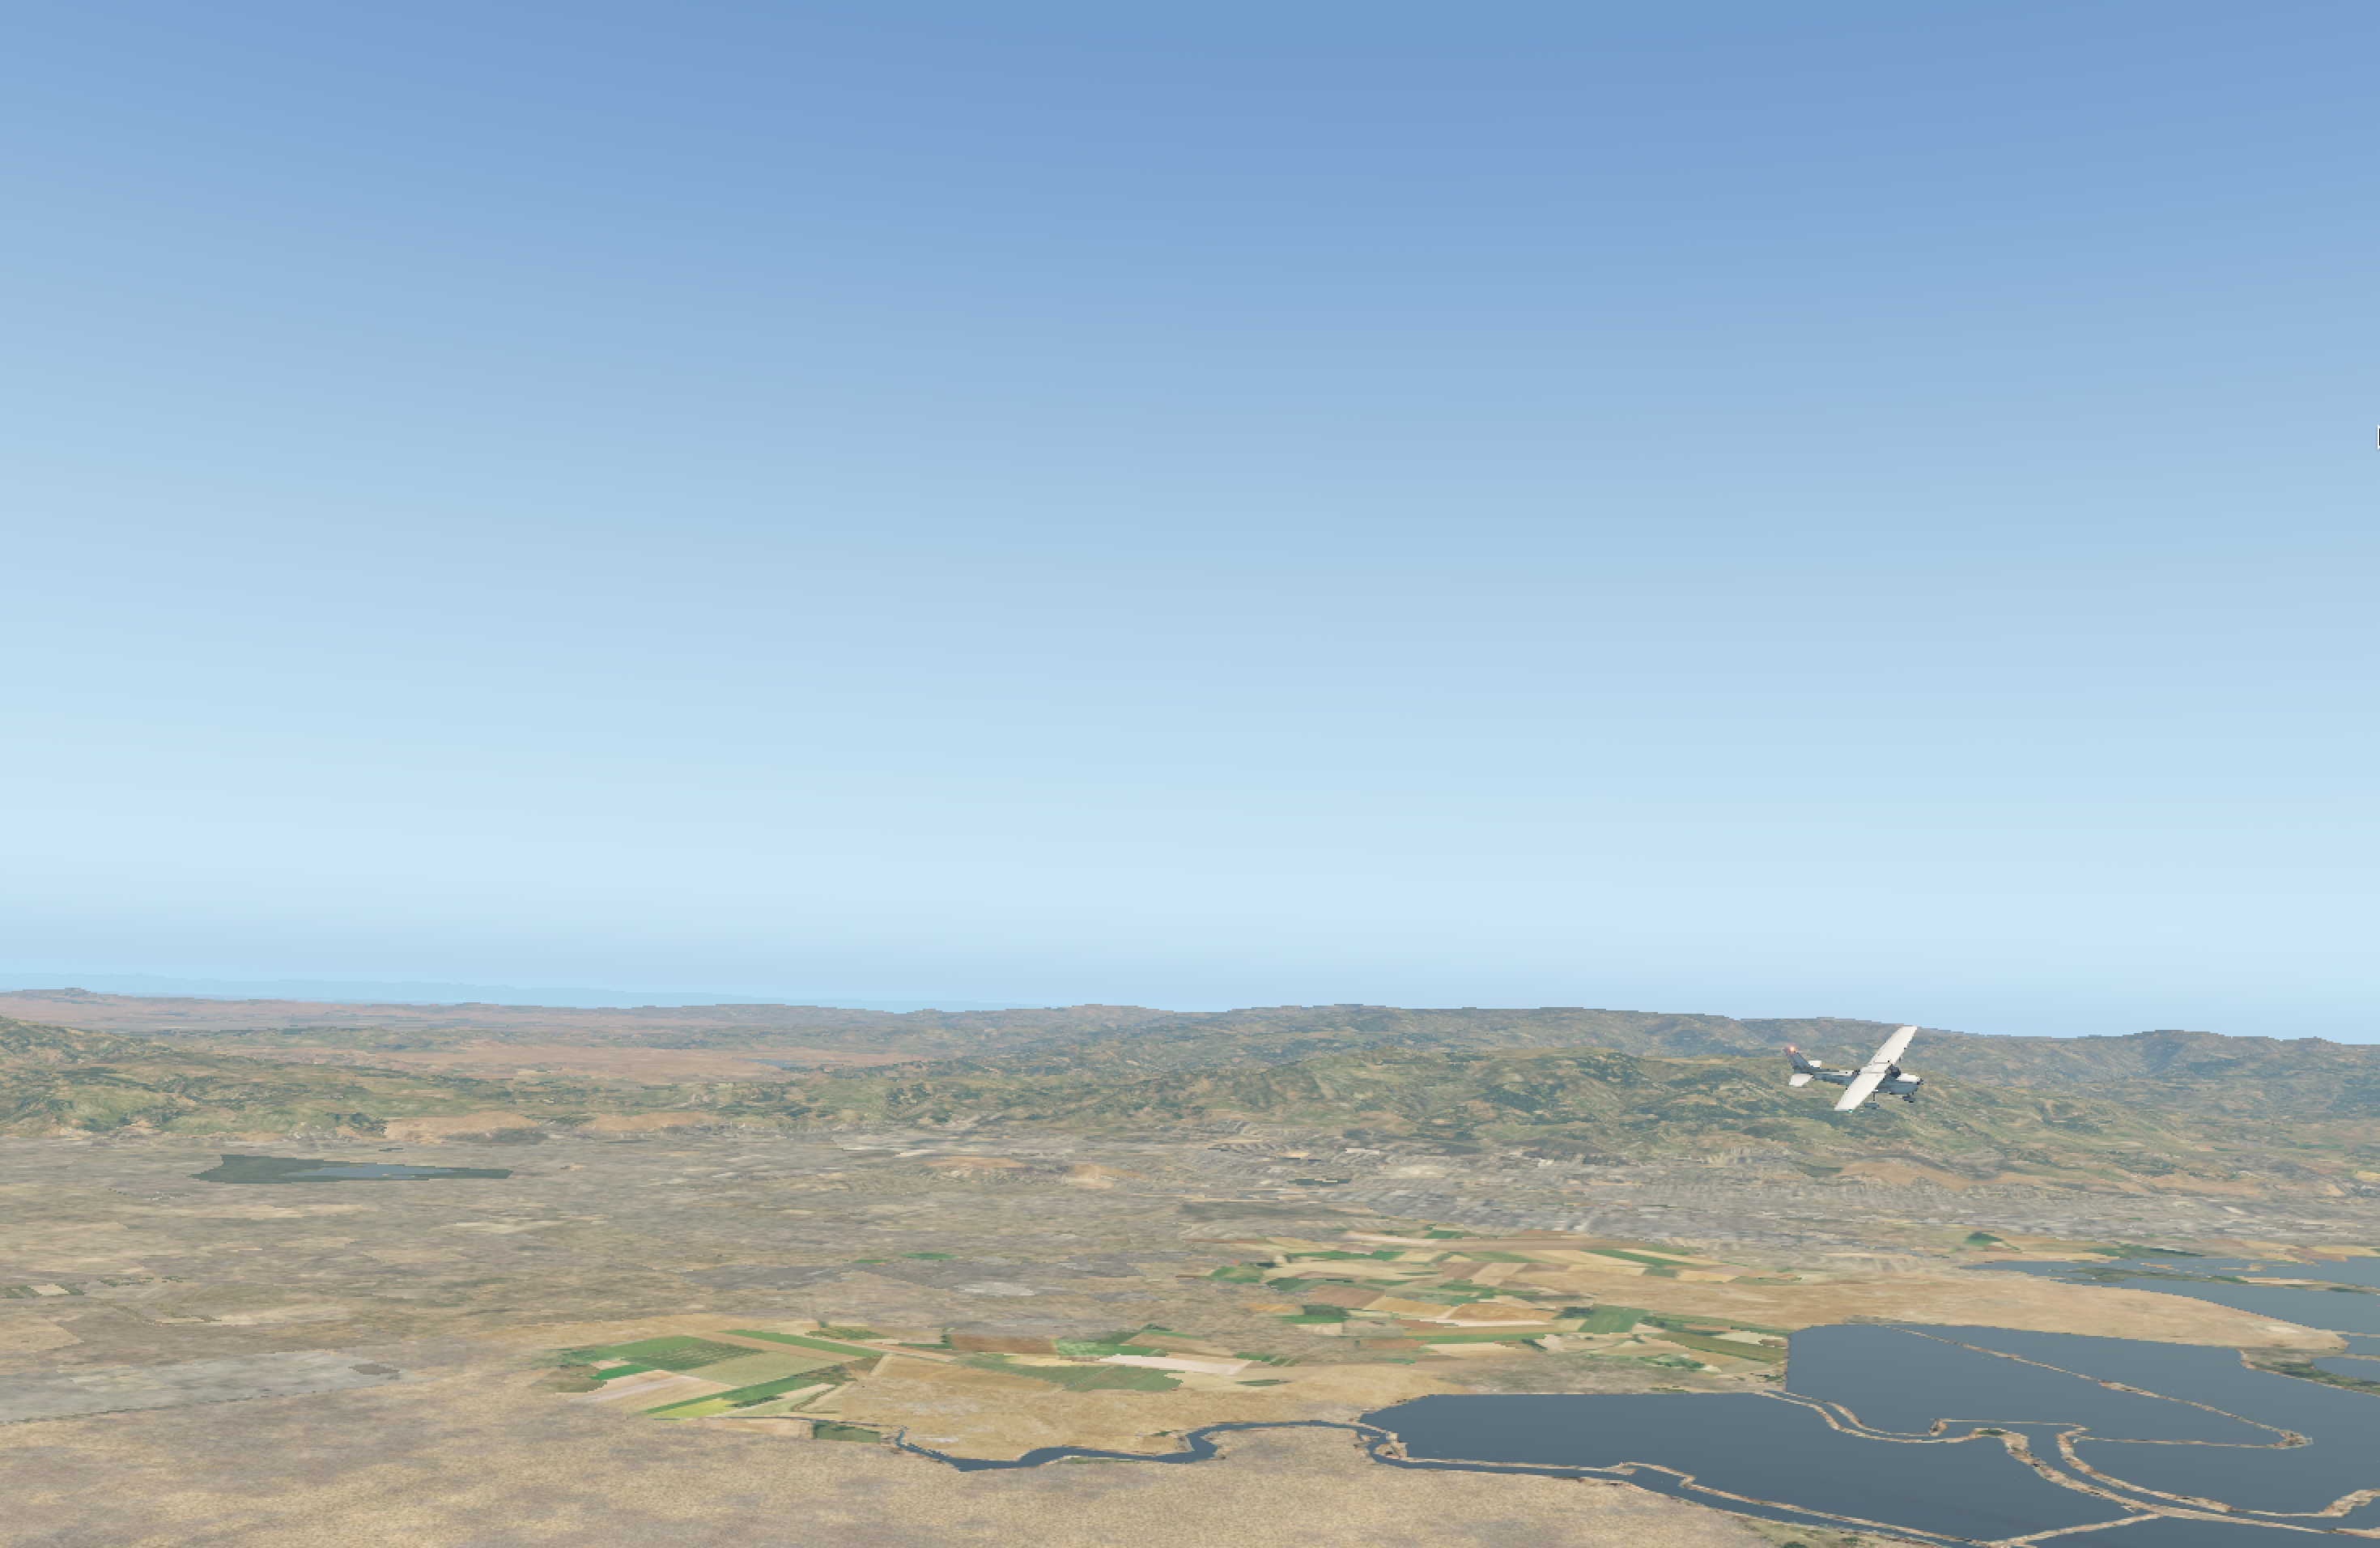aircraft: (1820, 1053, 1948, 1102)
